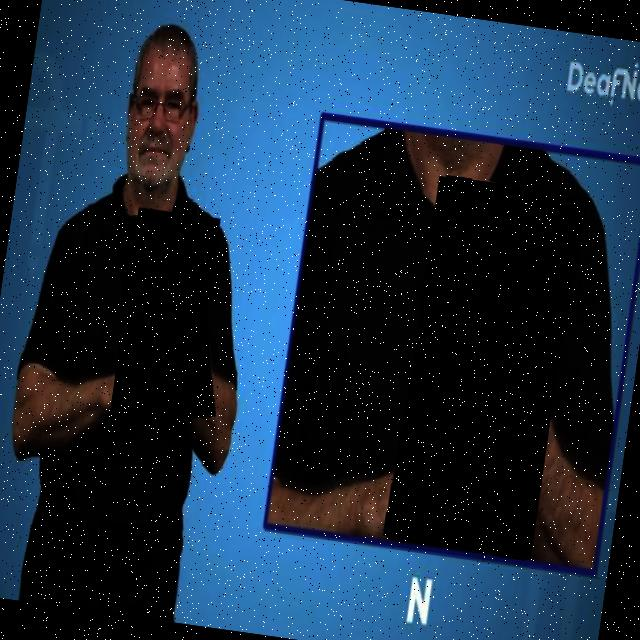N: (386, 175, 586, 562), (100, 205, 234, 432)
